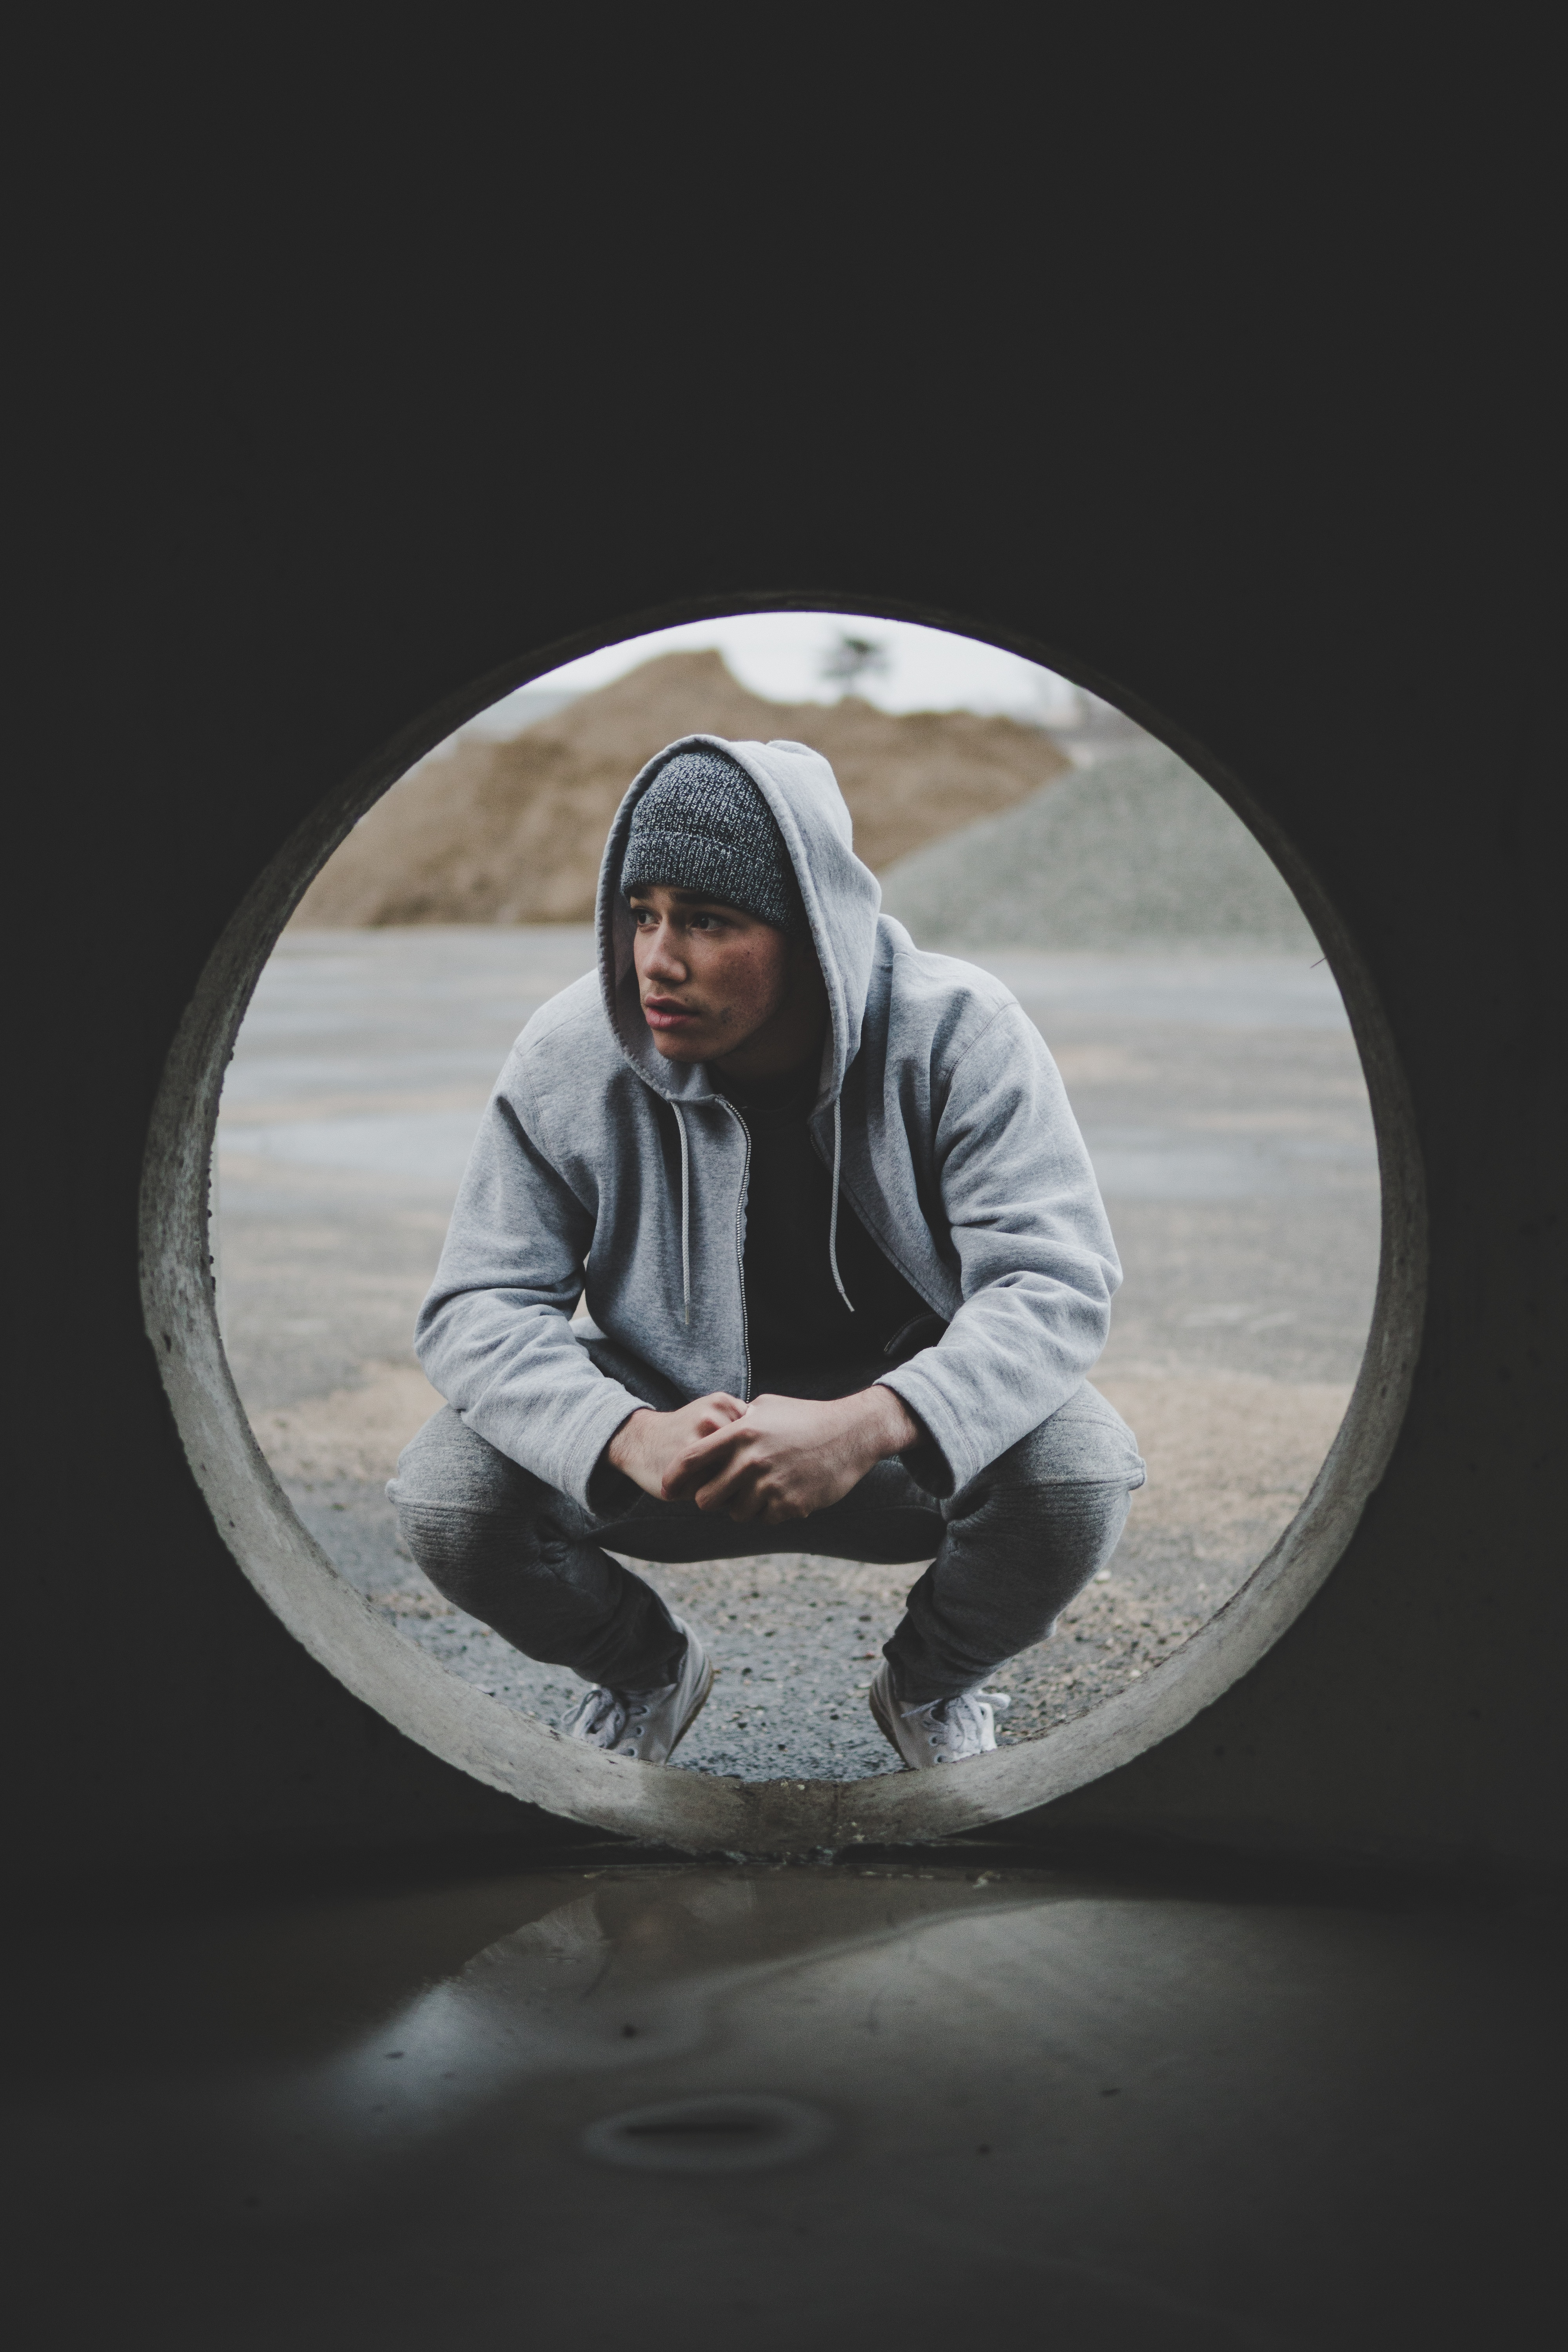person: (370, 723, 1166, 1791)
